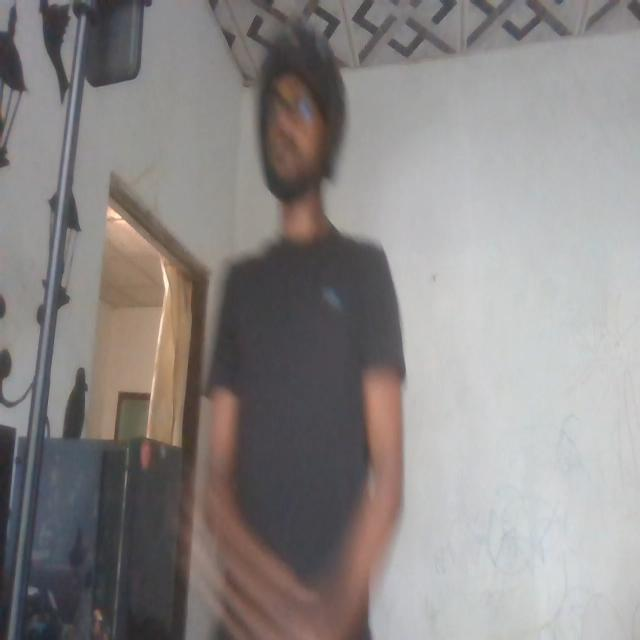Helmet_Wearer: (249, 22, 365, 206)
Person: (204, 18, 416, 640)
